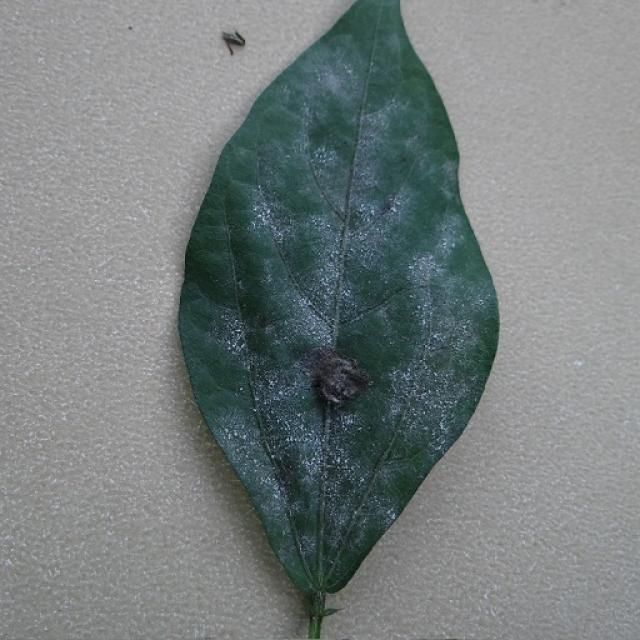Blackgram: (180, 0, 496, 620)
Powdery_Mildew: (269, 171, 416, 333), (374, 259, 484, 451), (258, 341, 350, 502), (201, 252, 272, 384), (249, 179, 313, 297), (402, 348, 467, 444), (325, 178, 400, 260), (398, 264, 464, 345), (280, 281, 334, 345), (313, 413, 361, 484), (252, 188, 291, 260), (290, 426, 329, 492), (303, 245, 340, 303), (400, 250, 446, 296), (260, 366, 305, 413), (420, 405, 462, 453), (251, 190, 289, 243), (308, 143, 345, 194), (221, 316, 252, 362), (214, 414, 251, 451), (363, 480, 394, 521), (278, 424, 305, 450), (337, 410, 357, 432), (436, 414, 454, 438), (364, 202, 382, 223), (341, 62, 359, 83), (414, 382, 432, 402), (260, 202, 275, 222), (431, 329, 449, 345), (231, 327, 245, 343), (400, 369, 414, 384), (385, 201, 399, 216), (458, 321, 472, 336), (294, 411, 306, 428), (267, 377, 277, 389), (387, 508, 395, 519), (232, 429, 240, 438), (336, 455, 342, 464), (238, 386, 244, 393)
